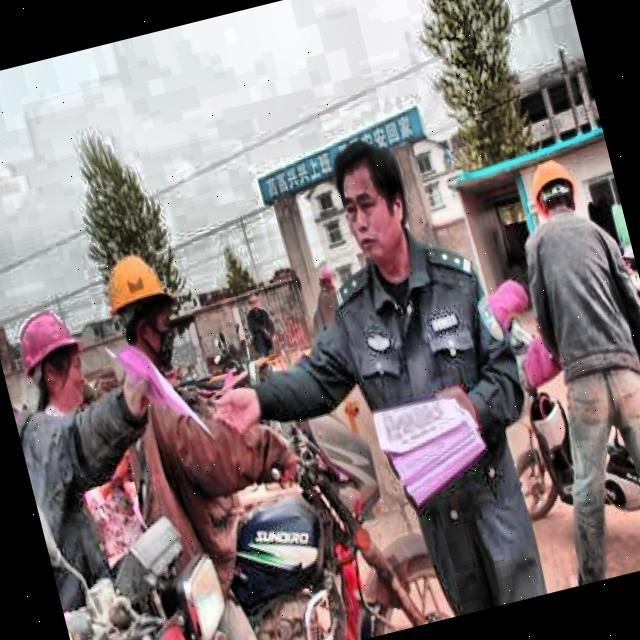helmet: (90, 236, 194, 370), (3, 291, 102, 427), (519, 154, 588, 240)
